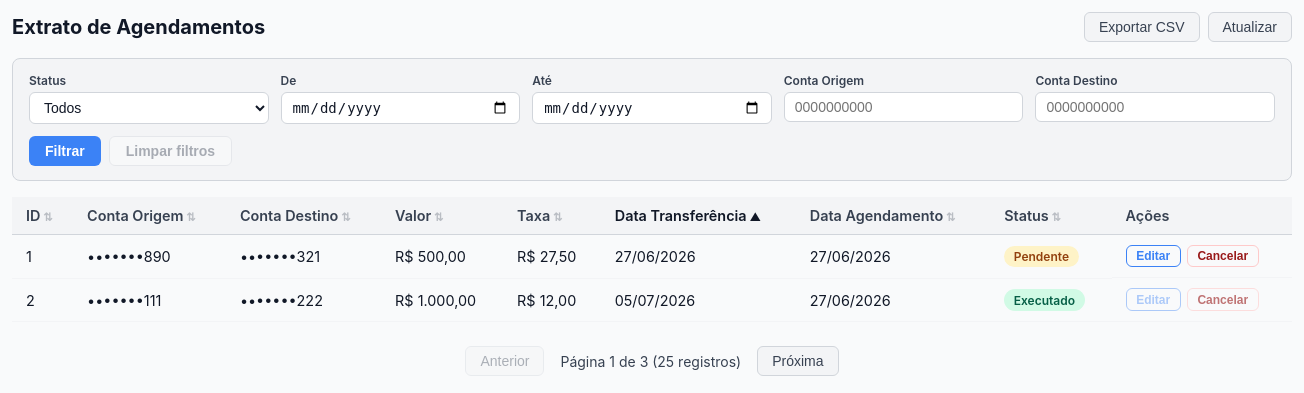
Test case: TransferList › pagination › disables the Próxima button on the last page
Click the button "Próxima": (798, 361) [757,346,839,376]
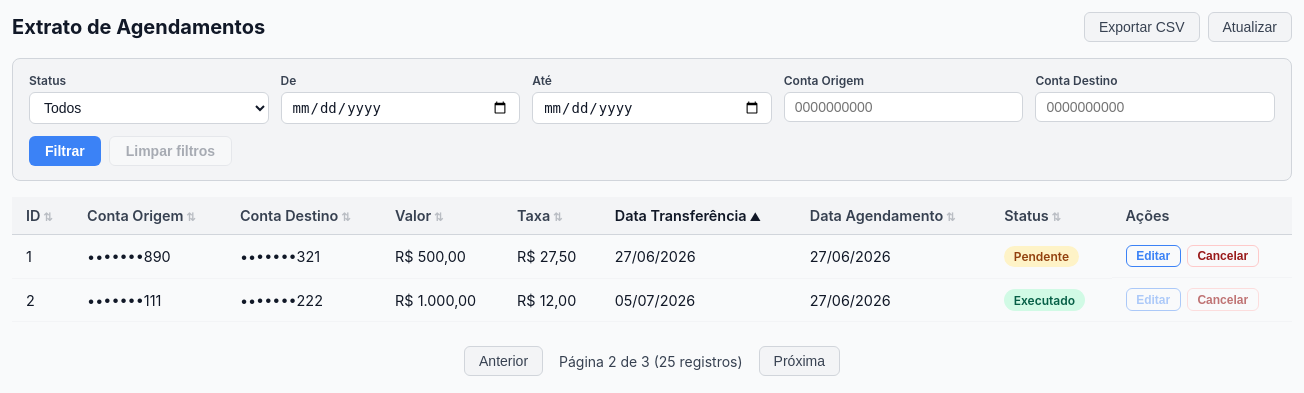
Click the button "Próxima": (799, 361) [759,346,840,376]
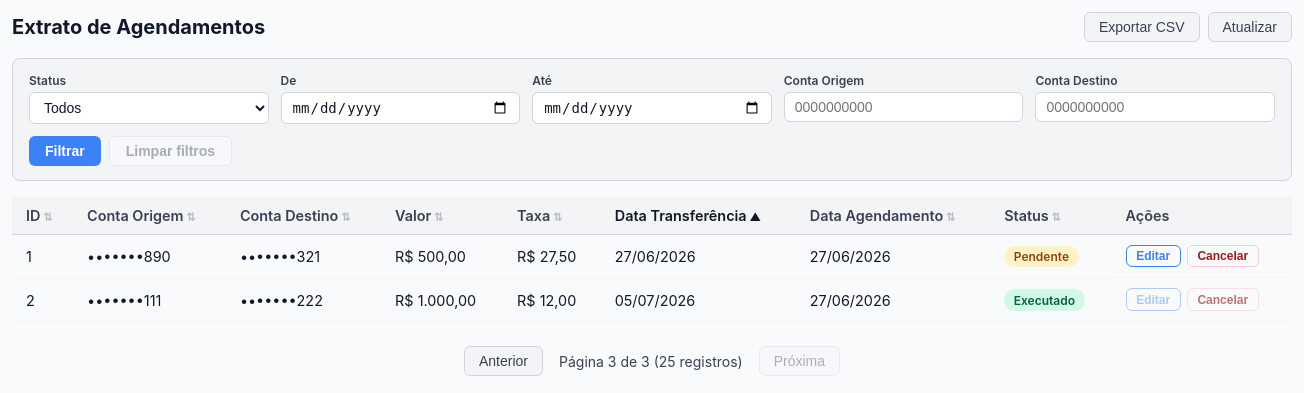
Expected: the button "Próxima" is disabled, [759,346,840,376]
